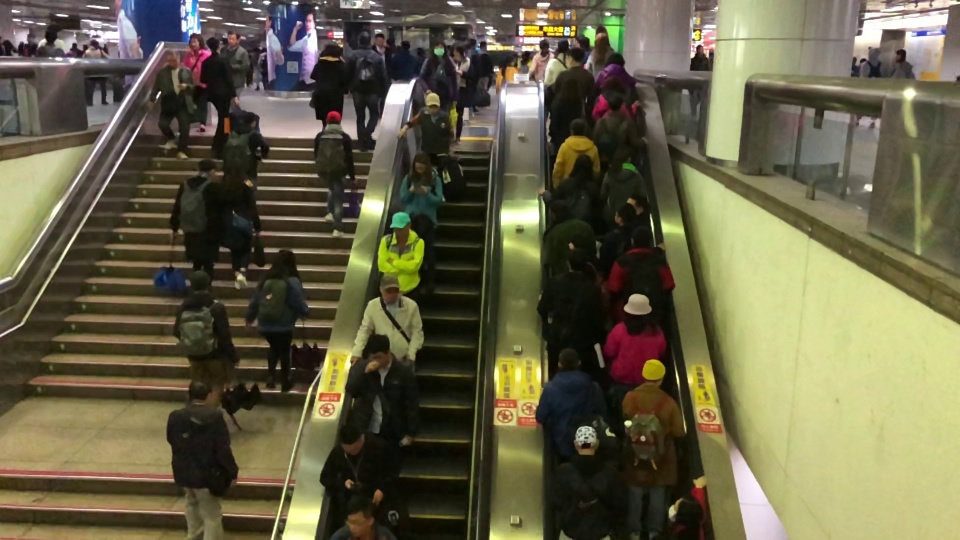person_head: (667, 492, 704, 529), (345, 494, 376, 536), (336, 419, 365, 456), (622, 293, 654, 323), (366, 333, 390, 368), (640, 358, 667, 388), (573, 425, 599, 455), (555, 346, 582, 372), (388, 211, 412, 240), (378, 272, 401, 302), (221, 159, 245, 183), (573, 154, 594, 180), (187, 379, 210, 402), (187, 269, 212, 290), (630, 224, 651, 247), (566, 247, 586, 271), (559, 76, 579, 99), (550, 198, 570, 221), (611, 204, 634, 224), (413, 151, 431, 176), (273, 249, 296, 268), (625, 195, 646, 215), (568, 117, 588, 137), (197, 157, 216, 177), (603, 76, 624, 94), (566, 48, 584, 67), (165, 48, 181, 69), (425, 91, 440, 113), (187, 32, 205, 50), (606, 93, 624, 111), (614, 144, 632, 162), (241, 112, 260, 129), (606, 50, 624, 66), (594, 33, 609, 52), (432, 38, 446, 57), (323, 40, 339, 56), (325, 110, 342, 125), (205, 35, 220, 51), (227, 30, 241, 47), (43, 28, 58, 43), (357, 30, 371, 46), (867, 47, 881, 61), (453, 44, 464, 61), (557, 39, 569, 53), (538, 38, 550, 51), (894, 48, 906, 61), (374, 32, 384, 47), (579, 38, 589, 52), (505, 54, 517, 65), (694, 43, 704, 55), (3, 39, 13, 50), (89, 39, 100, 49), (575, 34, 583, 47), (401, 40, 410, 50), (480, 42, 487, 54), (851, 56, 856, 65), (261, 47, 266, 53)
person_vbox: (163, 378, 241, 540), (619, 358, 685, 539), (171, 270, 240, 408), (244, 249, 309, 395), (603, 293, 667, 438), (344, 332, 420, 446), (586, 226, 675, 322), (535, 345, 605, 462), (556, 425, 624, 540), (536, 246, 605, 359), (318, 419, 403, 506), (351, 272, 425, 370), (168, 157, 224, 285), (397, 91, 455, 202), (398, 152, 443, 292), (217, 158, 263, 292), (222, 111, 271, 234), (314, 109, 358, 239), (146, 48, 195, 162), (199, 36, 241, 160), (346, 31, 387, 153), (537, 153, 603, 222), (375, 211, 426, 297), (542, 197, 598, 273), (601, 207, 666, 265), (592, 93, 647, 159), (309, 41, 349, 129), (551, 117, 600, 188), (599, 143, 647, 213), (327, 493, 395, 540), (182, 32, 212, 131), (419, 39, 460, 106), (853, 47, 886, 128), (548, 77, 585, 148), (220, 29, 251, 103), (553, 49, 596, 100), (592, 75, 641, 118), (81, 39, 111, 105), (594, 51, 638, 96), (452, 44, 470, 145), (689, 43, 710, 114), (586, 32, 614, 80), (543, 39, 571, 84), (528, 38, 554, 82), (391, 40, 420, 79), (35, 27, 66, 58), (496, 52, 520, 92), (889, 48, 916, 81), (371, 34, 392, 75), (480, 42, 494, 89), (257, 46, 269, 90), (4, 39, 20, 56), (851, 55, 859, 77)
